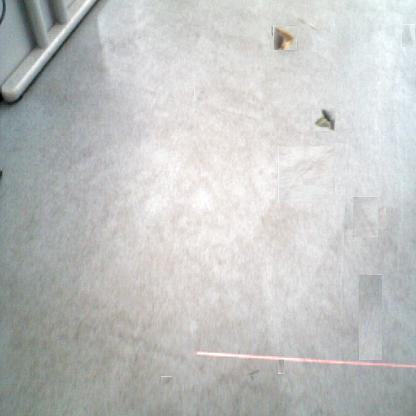dirty: (272, 25, 297, 50), (313, 108, 335, 130), (298, 16, 318, 30)
mark: (278, 146, 335, 203), (358, 274, 382, 360), (349, 200, 382, 233), (401, 24, 415, 47), (160, 376, 172, 389), (194, 87, 206, 100), (245, 366, 257, 378), (278, 359, 284, 374)
